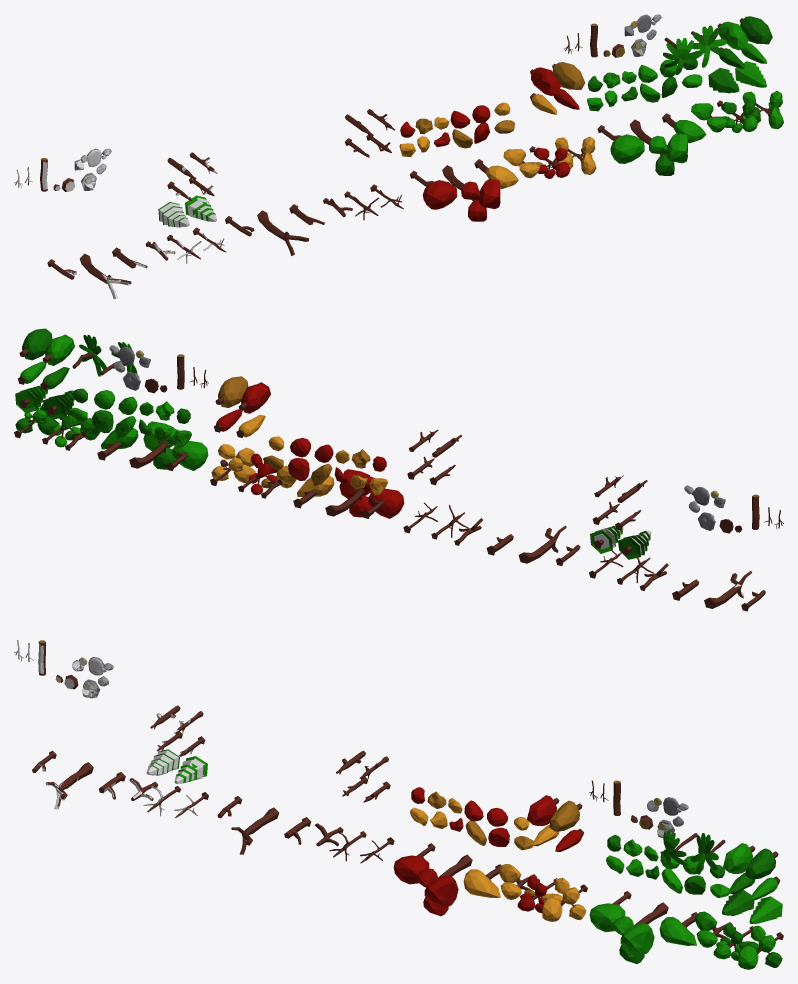
File: Low poly forest.fbx
3 renders of one model, top to bottom at view 1: azimuth 30°, elevation 25°; view 2: azimuth 150°, elevation 25°; view 3: azimuth 330°, elevation 25°, orthographic. The views are drawn at different scales.
Parts seen in each view (by area): view 1: Tree5.000, Tree5.003, Cylinder.031, Cylinder.001, Tree1.003, Cylinder.035, Tree1.000, Tree2.000, Tree2.003, Cylinder.036, Cylinder, Cylinder.030 (+12 smaller); view 2: Tree5.000, Tree5.003, Tree1.000, Cylinder.031, Cylinder.001, Tree1.003, Cylinder, Cylinder.030, Tree6.005, Cylinder.033, Tree2.000, Cylinder.003 (+11 smaller); view 3: Tree5.003, Tree5.000, Tree1.000, Tree1.003, Tree4.003, Tree4.000, Cylinder.001, Cylinder.031, Tree3.000, Tree3.003, Cylinder.036, Cylinder.030 (+11 smaller).
Boxes of the visible parts, x1,y1,x2,y2 form: Tree5.000: [442, 165, 500, 221]; Tree5.003: [629, 119, 687, 175]; Cylinder.031: [597, 125, 644, 163]; Cylinder.001: [410, 170, 457, 209]; Tree1.003: [742, 91, 783, 129]; Cylinder.035: [663, 37, 700, 74]; Tree1.000: [555, 136, 596, 174]; Tree2.000: [529, 146, 570, 178]; Tree2.003: [717, 100, 757, 132]; Cylinder.036: [691, 25, 726, 67]; Cylinder: [552, 62, 585, 89]; Cylinder.030: [739, 16, 772, 44]; Tree5.000: [325, 469, 374, 517]; Tree5.003: [129, 421, 178, 469]; Tree1.000: [210, 444, 255, 485]; Cylinder.031: [166, 441, 208, 470]; Cylinder.001: [362, 488, 404, 518]; Tree1.003: [14, 403, 59, 438]; Cylinder: [215, 376, 248, 407]; Cylinder.030: [19, 328, 52, 360]; Tree6.005: [618, 530, 651, 559]; Cylinder.033: [42, 334, 74, 365]; Tree2.000: [238, 453, 278, 494]; Cylinder.003: [238, 382, 270, 413]; Tree5.003: [612, 902, 668, 963]; Tree5.000: [416, 854, 472, 916]; Tree1.000: [542, 878, 587, 921]; Tree1.003: [738, 925, 783, 969]; Tree4.003: [659, 912, 697, 945]; Tree4.000: [463, 864, 501, 897]; Cylinder.001: [393, 843, 435, 884]; Cylinder.031: [589, 891, 631, 932]; Tree3.000: [499, 864, 536, 899]; Tree3.003: [695, 911, 732, 947]; Cylinder.036: [690, 833, 725, 874]; Cylinder.030: [745, 848, 778, 879].
Size of the model in its own units: 68.48 by 12.33 by 6.79.
